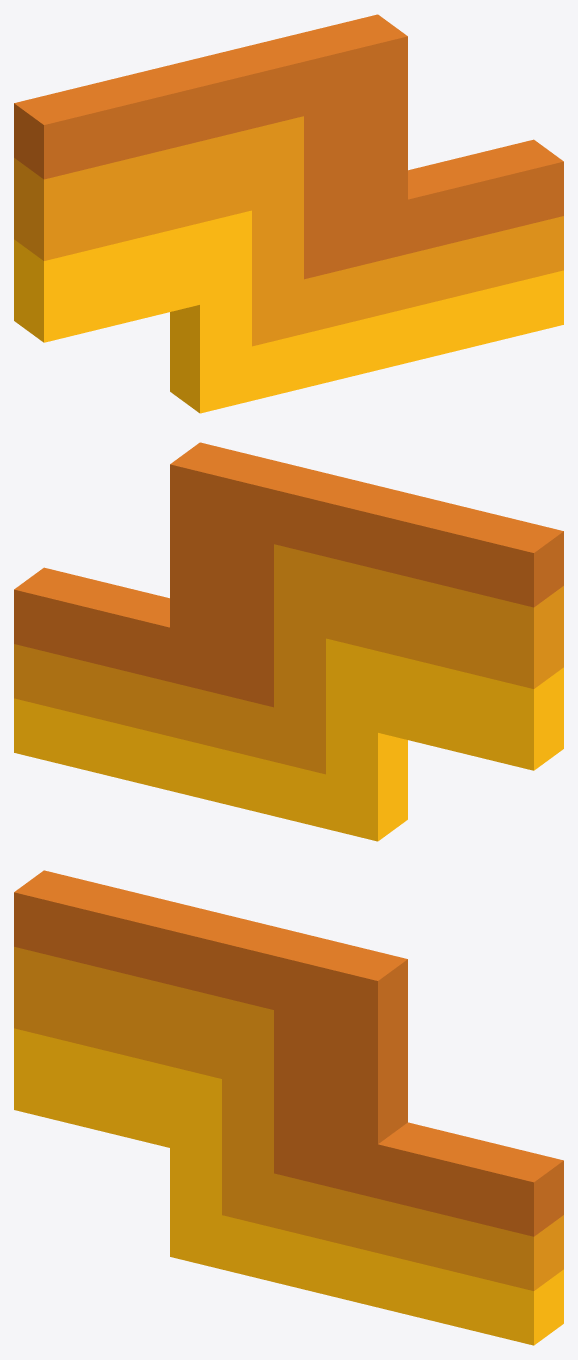
Rendered from speed-powerup.glb.
The picture shows the model from 3 angles, top to bottom: view 1: azimuth 30°, elevation 25°; view 2: azimuth 150°, elevation 25°; view 3: azimuth 330°, elevation 25°; orthographic projection.
Parts seen in each view (by area): view 1: speed-powerup; view 2: speed-powerup; view 3: speed-powerup.
Boxes of the visible parts, x1,y1,x2,y2 form: speed-powerup: [14, 14, 563, 413]; speed-powerup: [14, 442, 563, 841]; speed-powerup: [14, 870, 563, 1345].
Bounding box in the file's own units: 1.2 × 0.72 × 0.12.
Materials: 1 (1 with a texture image).
